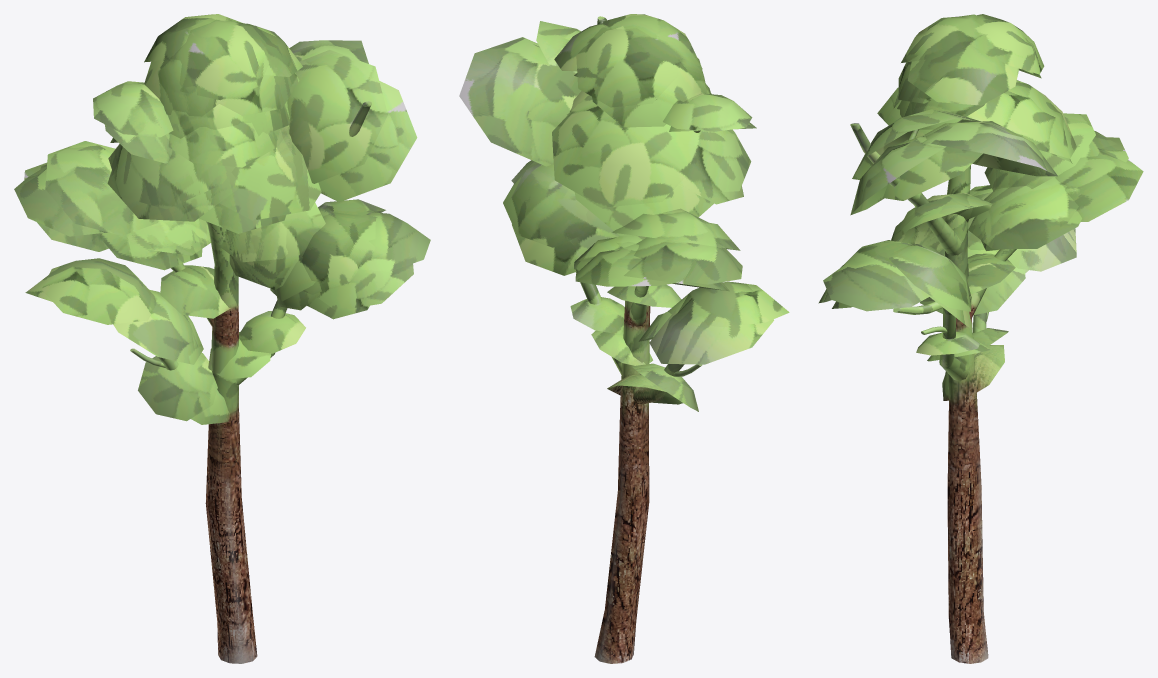
File: Tree.fbx
3 views of the same model, side by side, from view 1: azimuth 30°, elevation 25°; view 2: azimuth 150°, elevation 25°; view 3: azimuth 270°, elevation 25° (orthographic). The views are drawn at different scales.
Visible parts, largest first — view 1: node_id7 (×2); view 2: node_id7 (×2); view 3: node_id7 (×2).
Part boxes in pixels (bbox=[...]): node_id7 (×2): bbox=[14, 14, 430, 663]; node_id7 (×2): bbox=[459, 14, 789, 663]; node_id7 (×2): bbox=[818, 14, 1143, 663].
Size of the model in its own units: 0.2644 by 0.512 by 0.2411.
2 materials, 2 textured.
